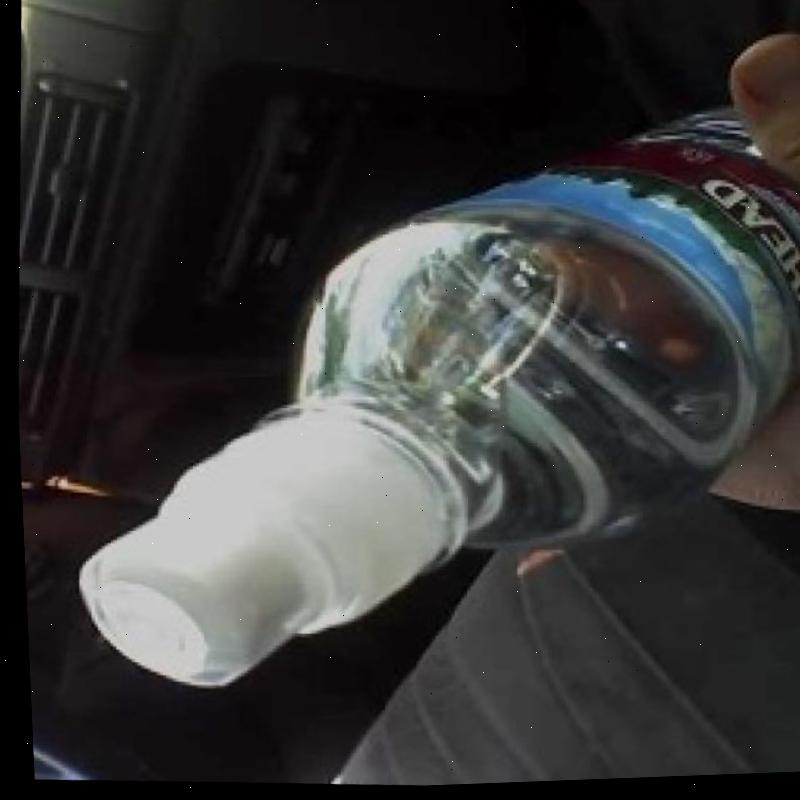botella: (47, 73, 800, 733)
